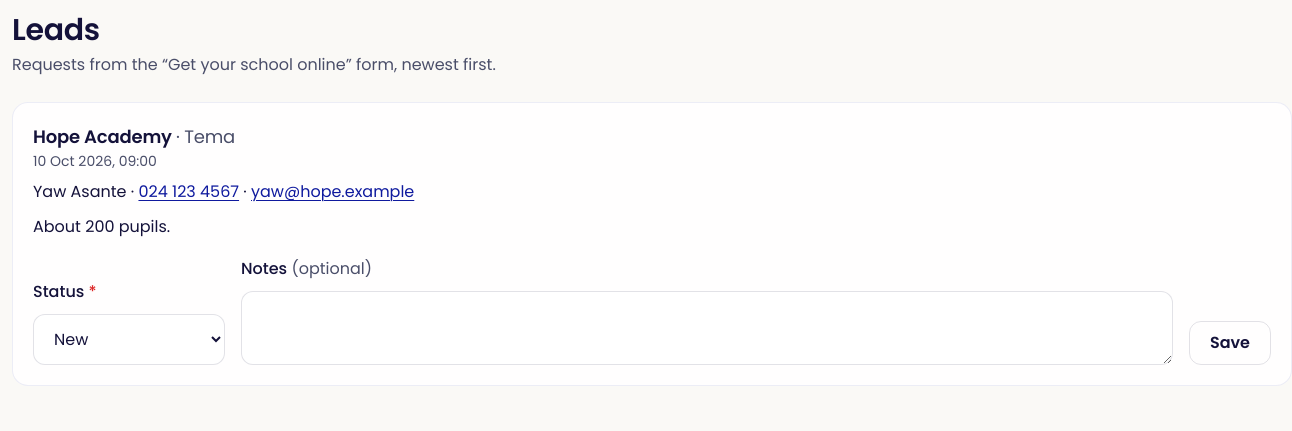
Test: leads inbox › lists leads and saves a status change with notes
Check: the heading "Hope Academy · Tema" is shown, box [33,124,235,149]
Select "Contacted" in the dropdown labelled "Status *" at (129, 339), box [33,314,225,365]
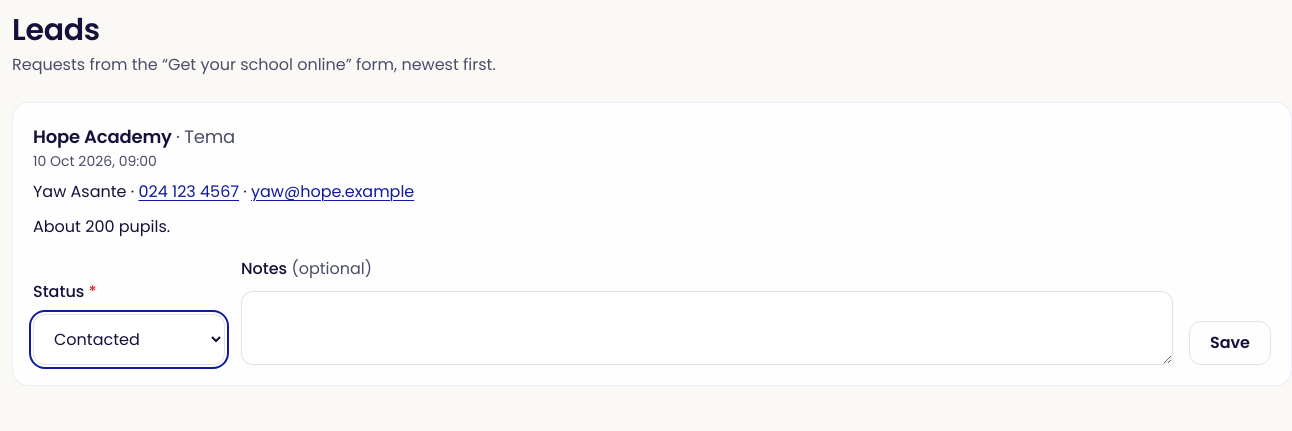
Type "Visiting Monday" into the text box labelled "Notes (optional)" at (707, 328), box [241,291,1173,365]
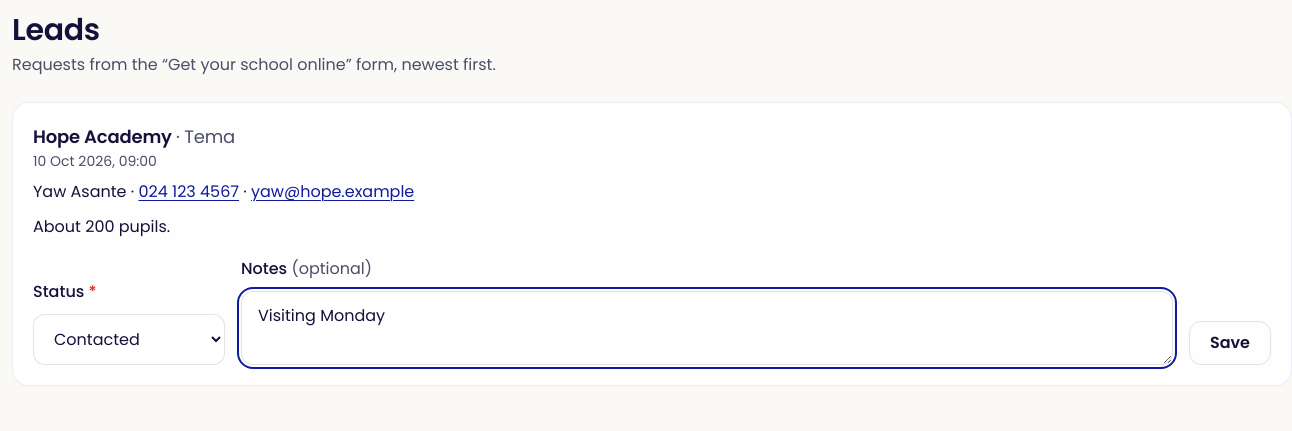
Click the button with aria-label "Save Hope Academy" at (1230, 343), box [1189,321,1271,365]
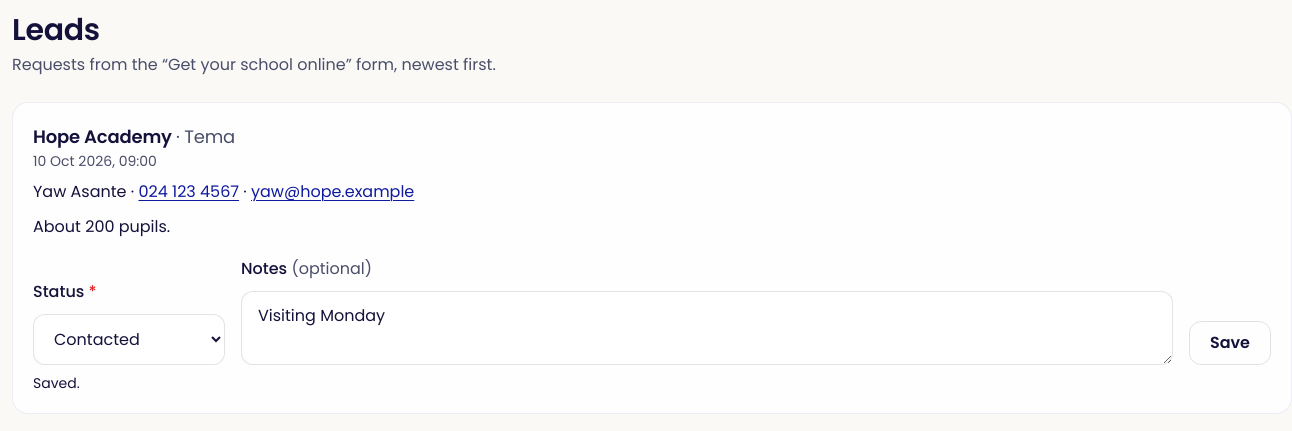
Check: the text "Saved." is shown, box [33,373,80,393]
